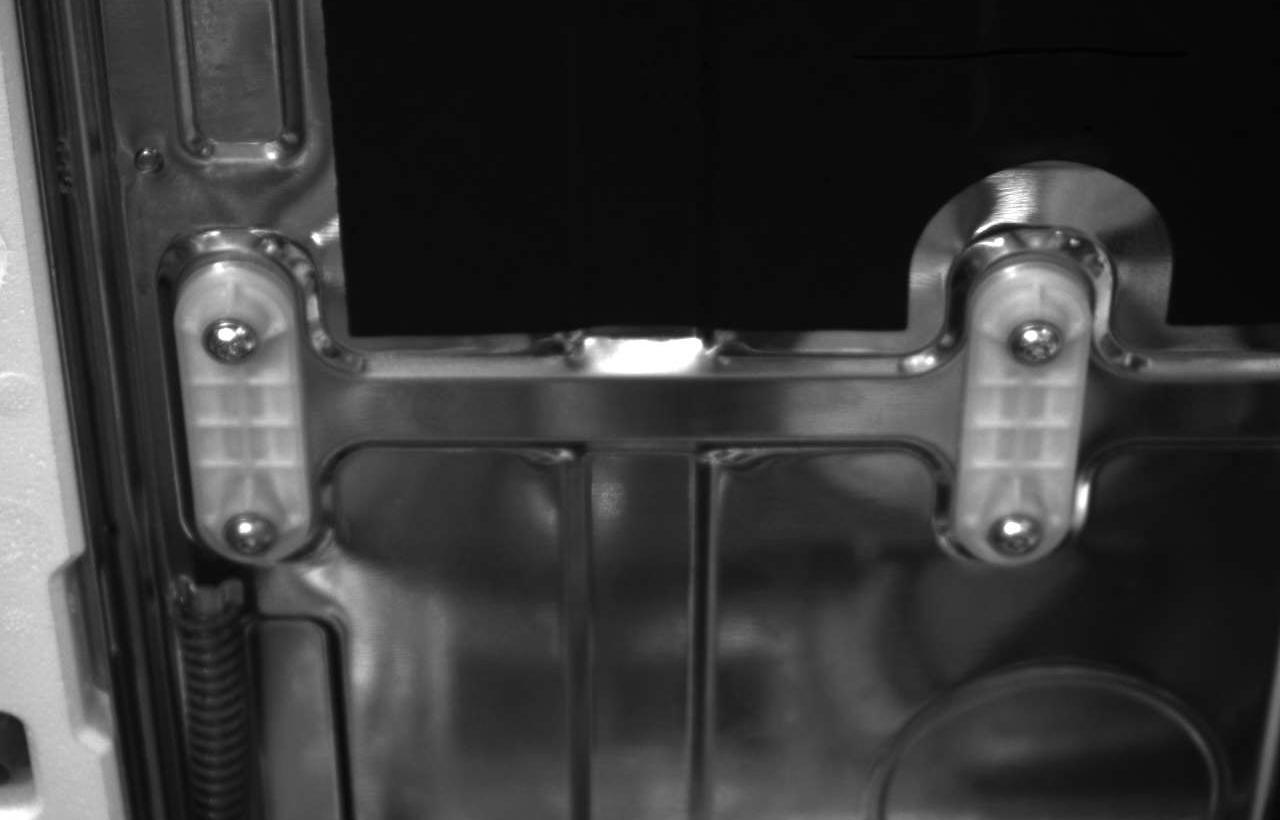vida-ok: (196, 301, 282, 378), (989, 302, 1077, 375), (213, 499, 294, 563), (987, 511, 1062, 570)
